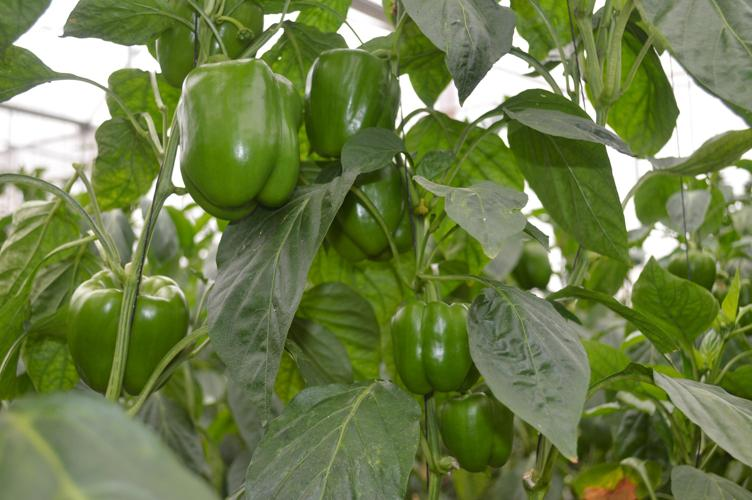BellPepper: (168, 58, 315, 219), (51, 271, 188, 406), (296, 41, 408, 158), (309, 162, 418, 266), (378, 295, 468, 397), (420, 391, 518, 475)
